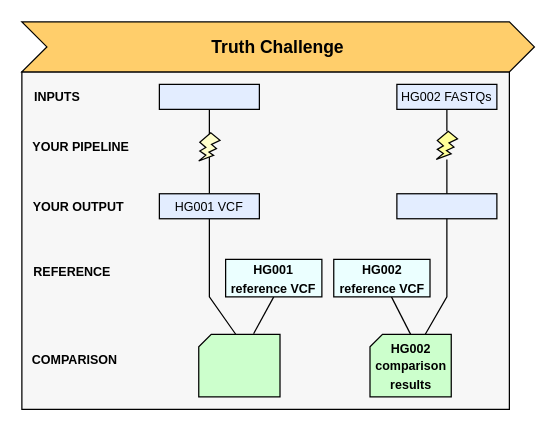
This 556x431 diagram has some shape labels left out. Each missing label, with the centre of its shape:
"HG001 comparison results" goes at (239,365).
"HG001 FASTQs" goes at (208,96).
"HG002 VCF" goes at (446,205).
